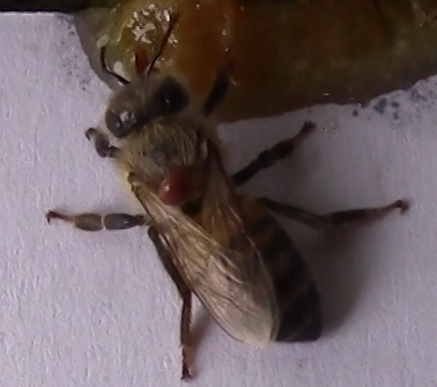Varroa destructor: (155, 164, 196, 207)
